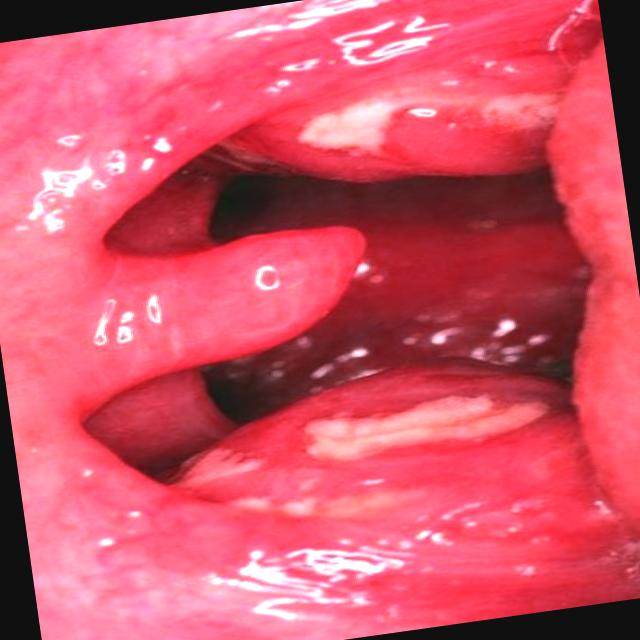pharyngitis: (167, 361, 601, 552), (50, 188, 373, 391), (218, 4, 578, 186)
